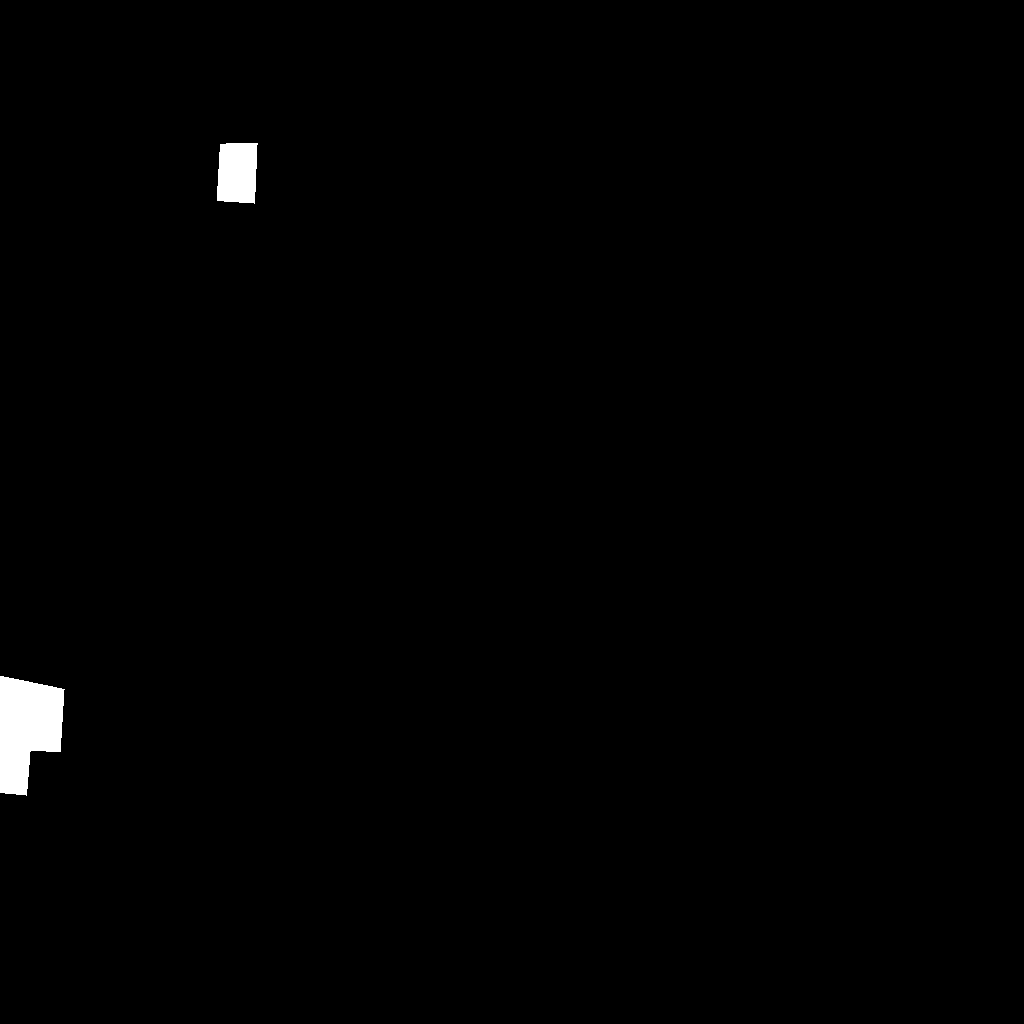building: (0, 676, 65, 796), (217, 143, 258, 204), (0, 882, 1, 886)
